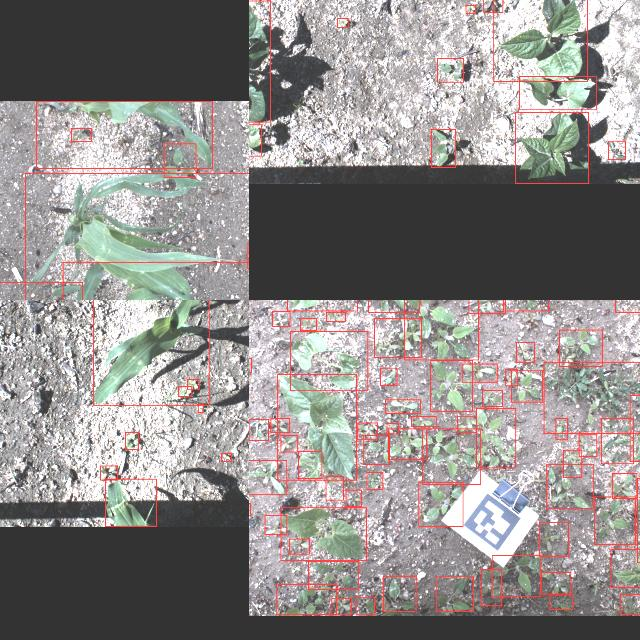crop: (25, 172, 249, 300), (93, 300, 209, 405), (36, 100, 212, 168), (278, 374, 356, 480), (493, 0, 587, 80), (63, 261, 249, 300), (516, 112, 588, 184), (290, 330, 368, 390), (281, 508, 367, 560), (520, 76, 596, 110), (106, 478, 156, 526), (0, 282, 82, 300), (610, 549, 640, 587), (629, 395, 640, 461), (287, 300, 357, 310), (249, 124, 262, 155)
weed: (544, 361, 640, 432), (405, 300, 479, 359), (423, 428, 481, 484), (476, 408, 516, 468), (431, 360, 473, 410), (547, 464, 593, 508), (492, 554, 540, 596), (594, 496, 636, 544), (419, 482, 463, 526), (374, 318, 422, 357), (277, 584, 337, 614), (560, 328, 602, 366), (309, 560, 359, 590), (601, 417, 633, 463), (436, 576, 474, 612), (249, 460, 286, 494), (388, 428, 426, 459), (384, 576, 416, 612), (164, 143, 196, 177), (511, 371, 543, 402), (430, 129, 456, 167), (540, 522, 568, 556), (364, 434, 390, 464), (481, 569, 501, 605), (298, 450, 322, 478), (541, 572, 571, 594), (437, 58, 463, 82), (612, 472, 636, 498), (462, 363, 496, 381), (368, 300, 419, 311), (564, 449, 582, 477), (386, 399, 420, 413), (469, 300, 505, 313), (503, 300, 548, 310), (249, 418, 269, 440), (265, 514, 287, 534), (326, 476, 344, 500), (620, 594, 640, 614), (579, 434, 597, 456), (608, 140, 626, 160), (358, 422, 378, 440), (516, 342, 534, 362), (550, 594, 572, 610), (280, 434, 298, 452), (356, 597, 374, 615), (482, 389, 502, 405), (290, 538, 310, 554), (331, 598, 351, 614), (458, 416, 477, 432), (380, 368, 398, 384), (272, 310, 290, 326), (367, 472, 383, 490), (71, 127, 91, 141), (270, 418, 290, 432), (346, 489, 362, 506), (100, 466, 118, 480), (412, 416, 436, 426), (125, 431, 138, 449), (556, 417, 566, 439), (483, 0, 502, 11), (300, 318, 316, 330), (326, 312, 346, 321), (506, 368, 516, 386), (178, 386, 192, 396), (187, 379, 199, 389), (387, 423, 399, 433), (338, 18, 348, 27), (466, 5, 476, 13), (221, 453, 231, 461), (198, 404, 204, 412)
